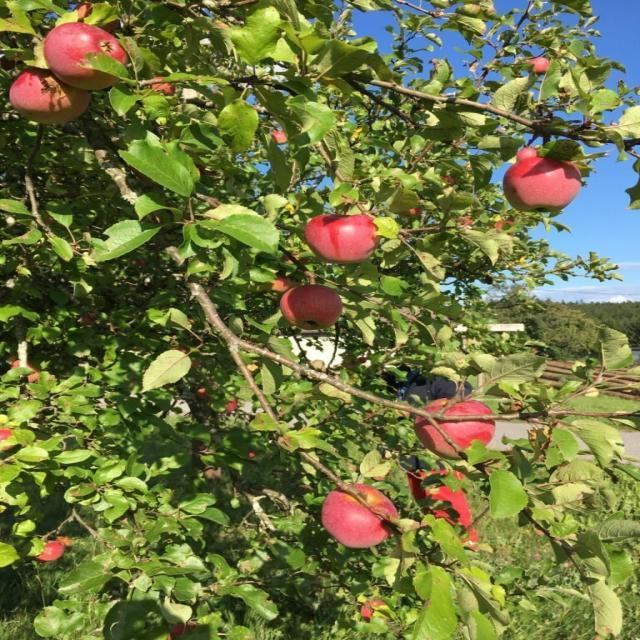Red Apple: (316, 483, 401, 550), (44, 20, 128, 87), (409, 473, 492, 533), (13, 62, 92, 120), (504, 162, 583, 217), (422, 400, 500, 452), (312, 212, 375, 262), (286, 285, 340, 330), (11, 359, 43, 383), (36, 539, 65, 562), (148, 76, 176, 98), (362, 600, 385, 621), (528, 57, 552, 76), (217, 397, 242, 414)
